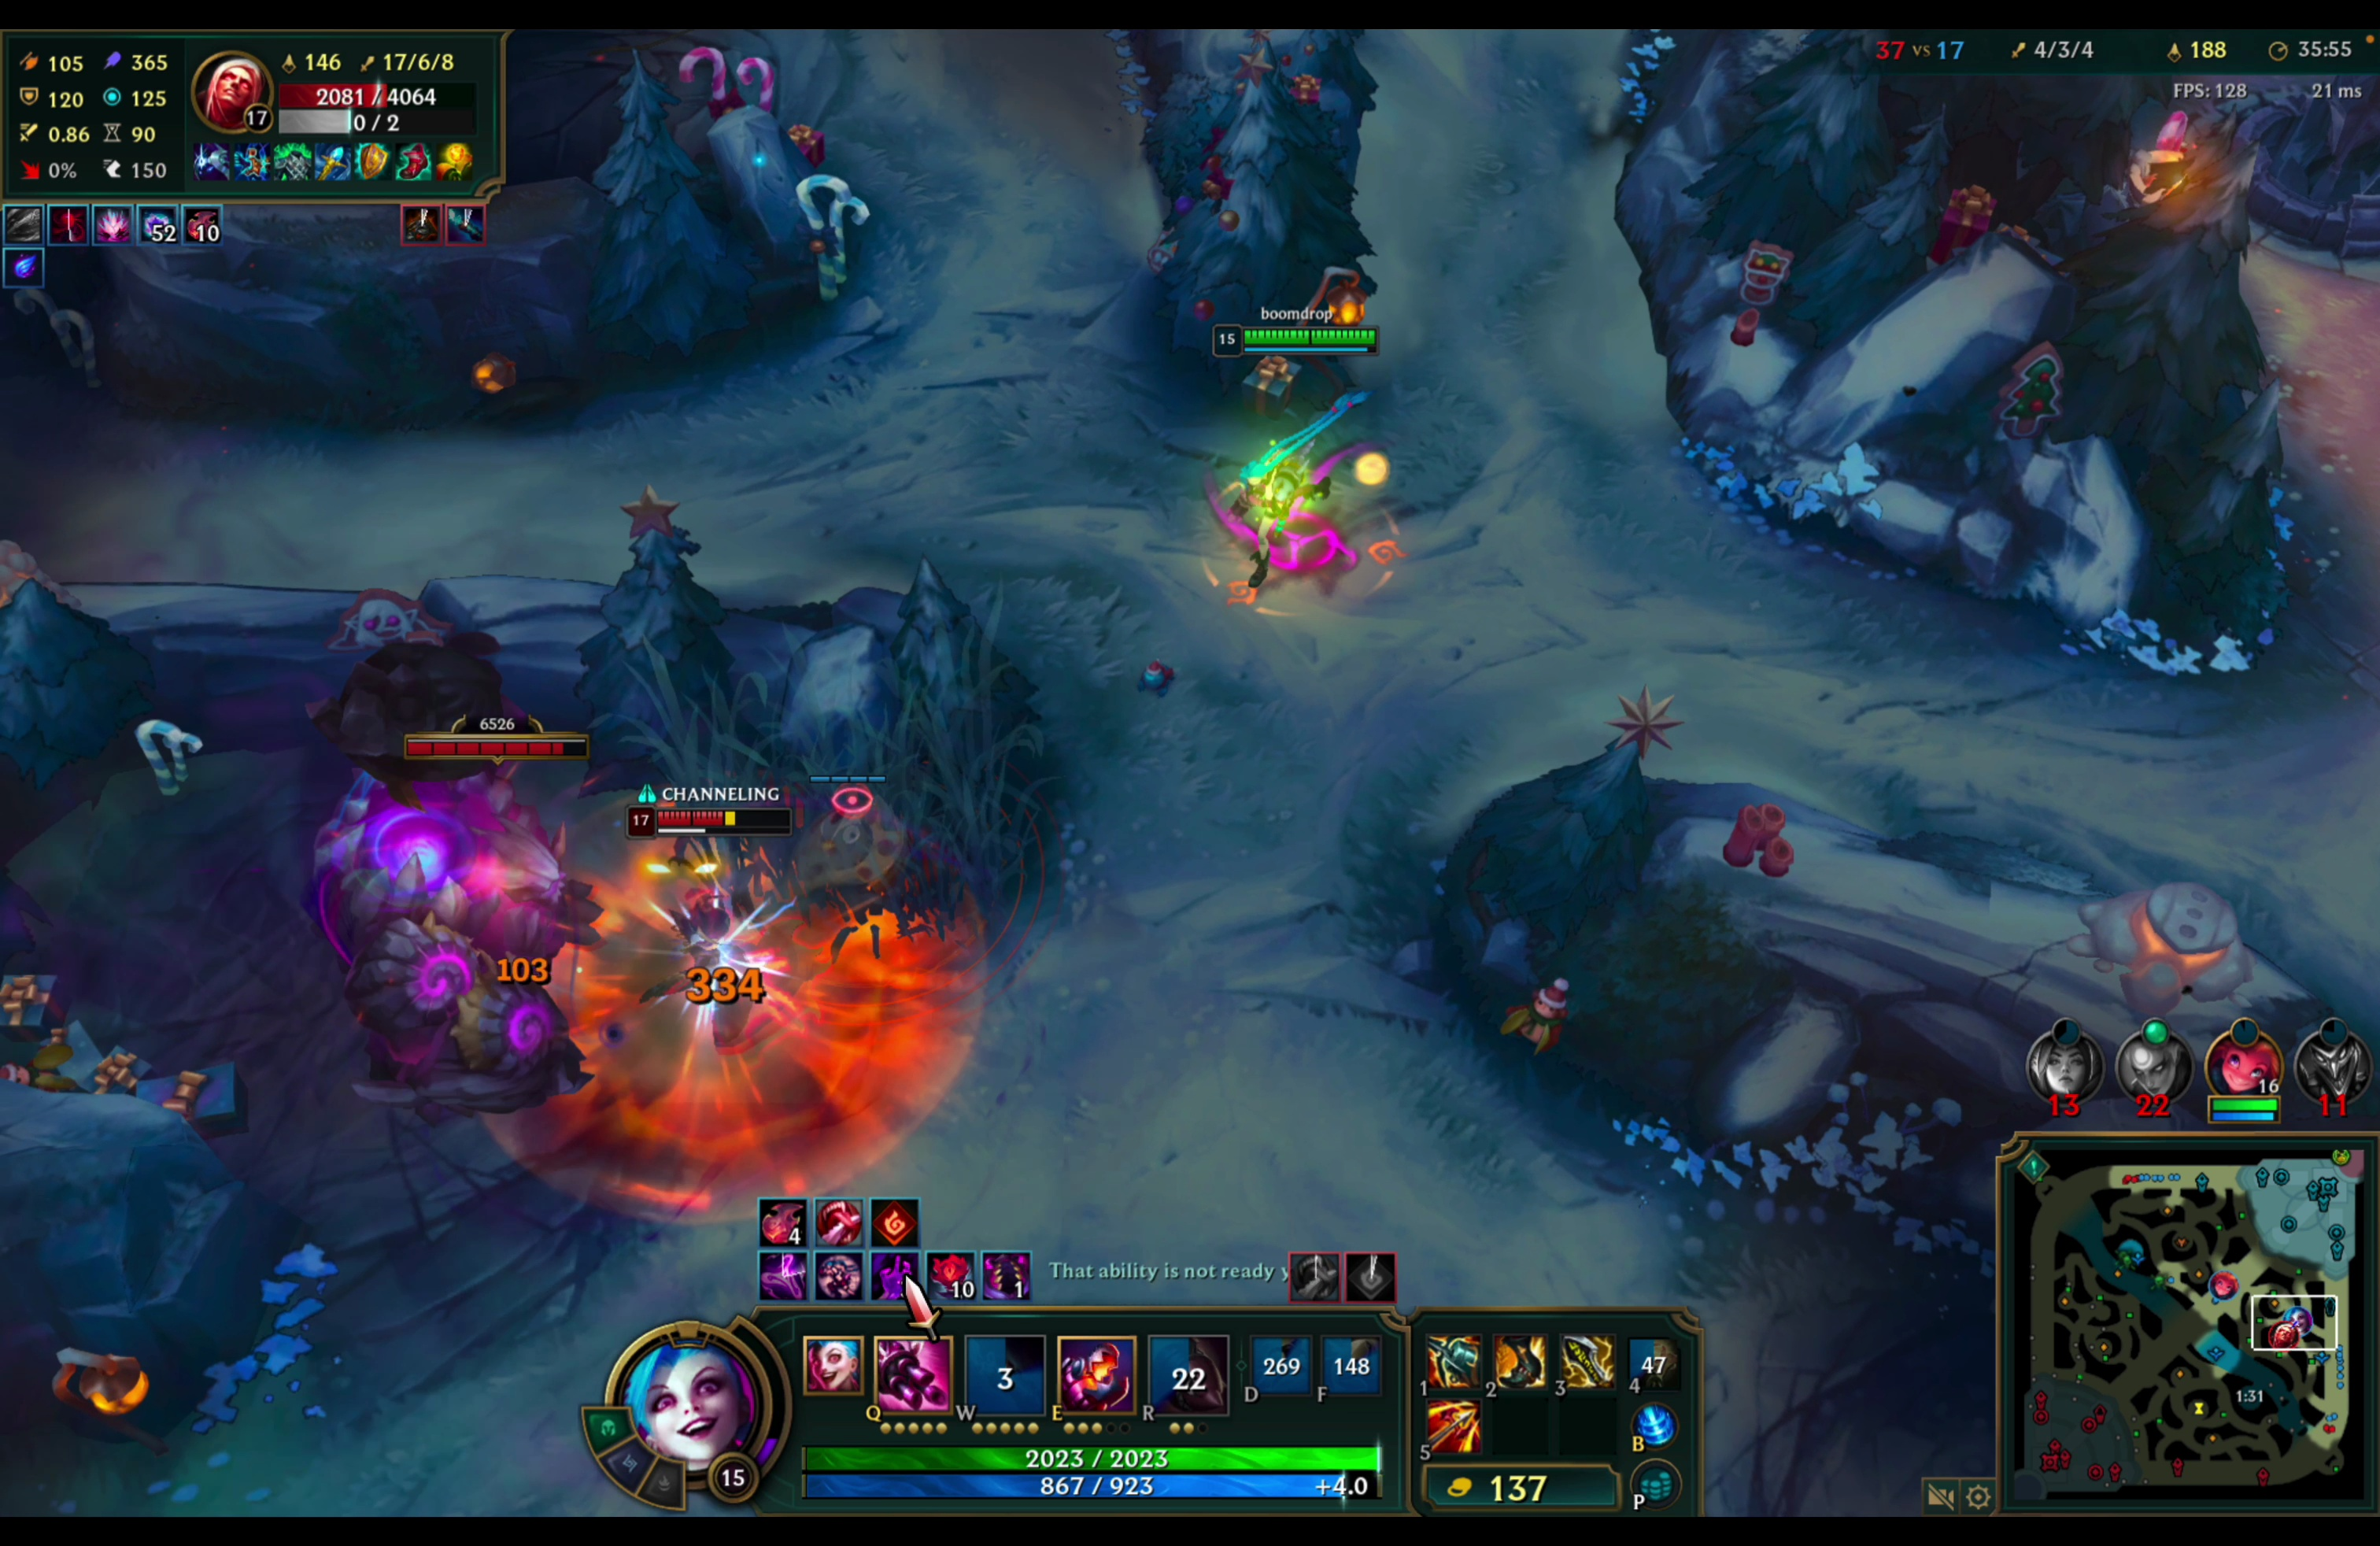JINX_W_IMPACT: (590, 777, 808, 1076)
